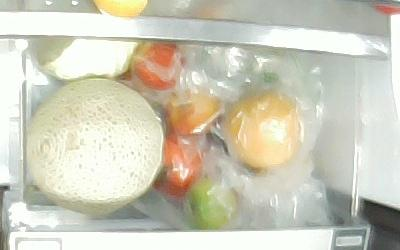cabbage: (34, 39, 141, 78)
melon: (27, 78, 164, 217)
pear_vinyl: (229, 92, 304, 169)
prune_vinyl: (165, 89, 223, 136)
tomato_vinyl: (150, 134, 203, 195), (182, 176, 238, 227), (135, 43, 185, 90)
